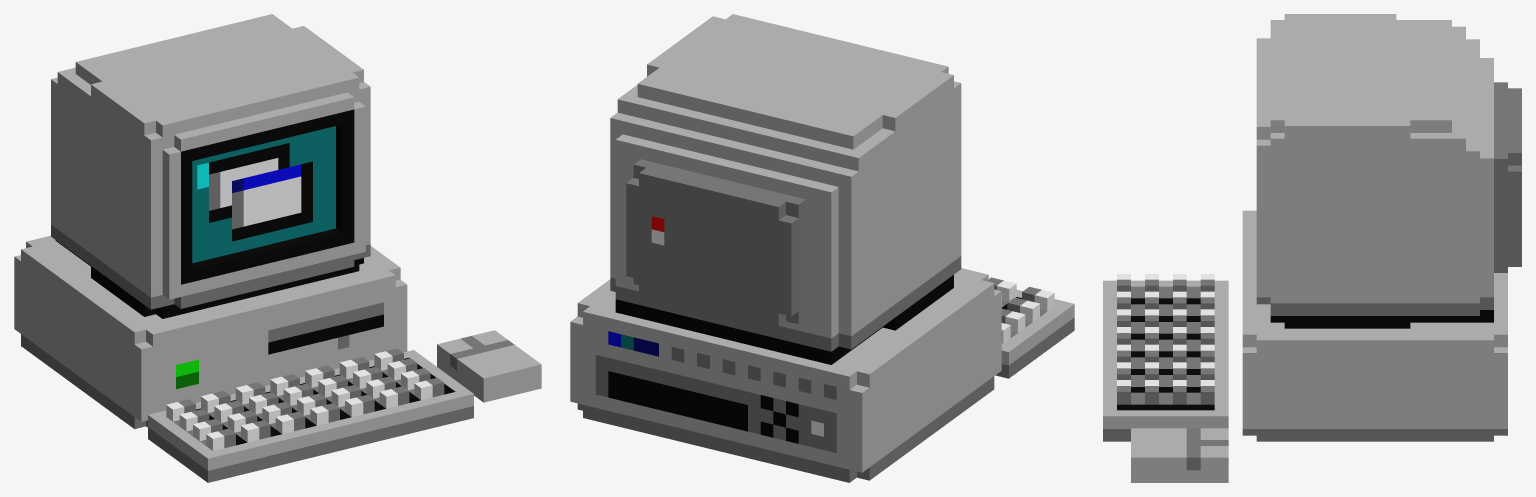
The model's file is computer.glb.
The picture shows the model from 3 angles, left to right: view 1: azimuth 30°, elevation 25°; view 2: azimuth 150°, elevation 25°; view 3: azimuth 270°, elevation 25°; orthographic projection. The views are drawn at different scales.
Parts seen in each view (by area): view 1: computer; view 2: computer; view 3: computer.
Boxes of the visible parts, bbox=[...] form: computer: bbox=[14, 14, 541, 482]; computer: bbox=[570, 14, 1074, 482]; computer: bbox=[1103, 14, 1521, 482].
Size of the model in its own units: 3 by 2.4 by 3.
Materials: 1 (1 with a texture image).
